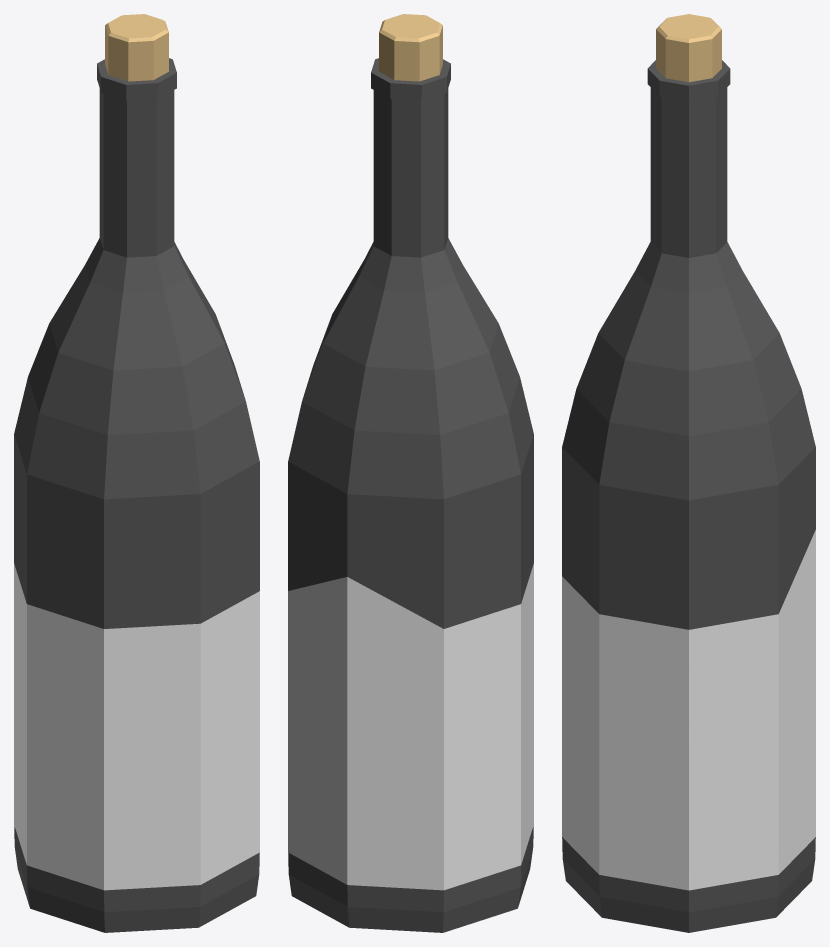
Rendered from bottle-of-wine-by-jeremy-13g9ucgxbHV.glb.
3 renders of one model, left to right at view 1: azimuth 30°, elevation 25°; view 2: azimuth 150°, elevation 25°; view 3: azimuth 270°, elevation 25°, orthographic.
Parts seen in each view (by area): view 1: Circle.004; view 2: Circle.004; view 3: Circle.004.
Boxes of the visible parts, bbox=[...] form: Circle.004: bbox=[14, 14, 259, 932]; Circle.004: bbox=[288, 14, 533, 932]; Circle.004: bbox=[562, 14, 815, 932].
Size of the model in its own units: 2.68 by 9.95 by 2.68.
